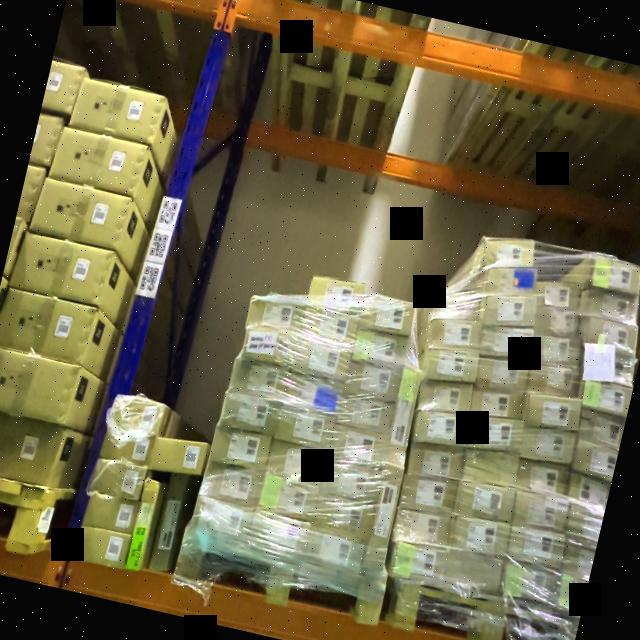box: (0, 289, 94, 365), (33, 181, 132, 251), (14, 232, 110, 304), (51, 128, 147, 196), (0, 345, 80, 426), (69, 76, 163, 142), (356, 463, 406, 587), (0, 407, 66, 489), (148, 474, 190, 576), (384, 369, 425, 465), (127, 476, 164, 572), (312, 494, 378, 542), (302, 530, 368, 578), (448, 513, 511, 561), (504, 524, 567, 572), (201, 462, 263, 509), (289, 338, 352, 384), (245, 512, 308, 558), (256, 473, 318, 519), (454, 480, 516, 526), (392, 506, 454, 552), (442, 550, 504, 596), (344, 360, 406, 406), (271, 407, 334, 452), (500, 562, 560, 609), (264, 440, 328, 484), (321, 460, 382, 506), (218, 391, 278, 437), (388, 542, 448, 588), (280, 373, 342, 417), (329, 424, 388, 470), (211, 427, 271, 472), (410, 407, 470, 452), (400, 474, 460, 519), (479, 288, 540, 332), (190, 498, 253, 540), (478, 321, 538, 365), (524, 392, 584, 436), (422, 344, 482, 388), (239, 325, 299, 369), (228, 359, 288, 402), (352, 325, 412, 368), (75, 525, 132, 570), (361, 292, 418, 337), (151, 434, 209, 478), (520, 424, 578, 468), (512, 490, 570, 534), (466, 414, 524, 458), (484, 260, 542, 304), (299, 304, 359, 346), (91, 459, 148, 503), (306, 273, 364, 316), (416, 376, 474, 419), (462, 447, 520, 490), (404, 442, 462, 485), (248, 292, 307, 334), (480, 234, 538, 276), (85, 493, 141, 536), (428, 312, 484, 355), (336, 393, 394, 434), (110, 394, 165, 437), (474, 352, 530, 394), (469, 384, 525, 426), (41, 59, 83, 115), (528, 360, 586, 400), (582, 347, 638, 388), (100, 426, 154, 468), (578, 378, 632, 420), (516, 460, 572, 500), (431, 287, 486, 326), (585, 287, 640, 325), (584, 315, 640, 352), (531, 331, 583, 370), (591, 256, 640, 296), (536, 278, 588, 315), (576, 411, 624, 451), (571, 442, 618, 482), (565, 472, 611, 512), (534, 306, 584, 340), (562, 503, 604, 543), (560, 542, 596, 580), (554, 574, 588, 614)
